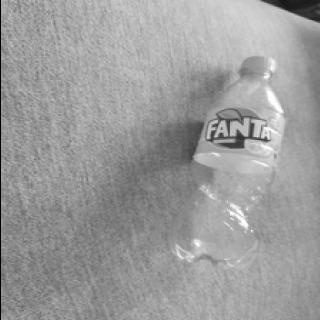plastic_bottles: (169, 55, 289, 272)
